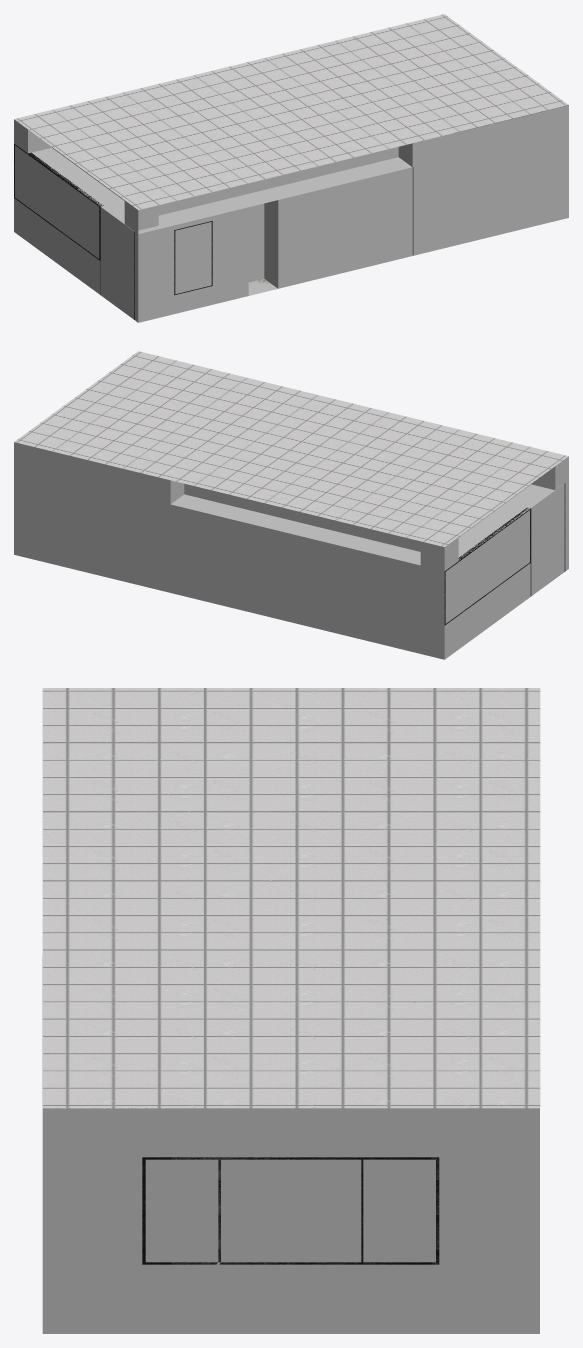
File: Dios(padreNuestros).fbx
The picture shows the model from 3 angles, top to bottom: view 1: azimuth 30°, elevation 25°; view 2: azimuth 150°, elevation 25°; view 3: azimuth 270°, elevation 25°; orthographic projection. The views are drawn at different scales.
Parts seen in each view (by area): view 1: Pared, Techo, Ventana, Marcos; view 2: Pared, Techo, Ventana, Marcos; view 3: Techo, Pared, Ventana, Marcos.
Part boxes in pixels (box(x1,y1,x2,y2)): Pared: box(14, 105, 568, 322); Techo: box(14, 14, 568, 209); Ventana: box(15, 112, 538, 319); Marcos: box(14, 111, 543, 319); Pared: box(14, 442, 568, 659); Techo: box(14, 351, 568, 546); Ventana: box(445, 484, 564, 623); Marcos: box(443, 483, 565, 625); Techo: box(43, 688, 540, 1108); Pared: box(42, 688, 539, 1333); Ventana: box(145, 1159, 435, 1262); Marcos: box(142, 1157, 439, 1264).
Bounding box in the file's own units: 1800 × 450 × 901.
